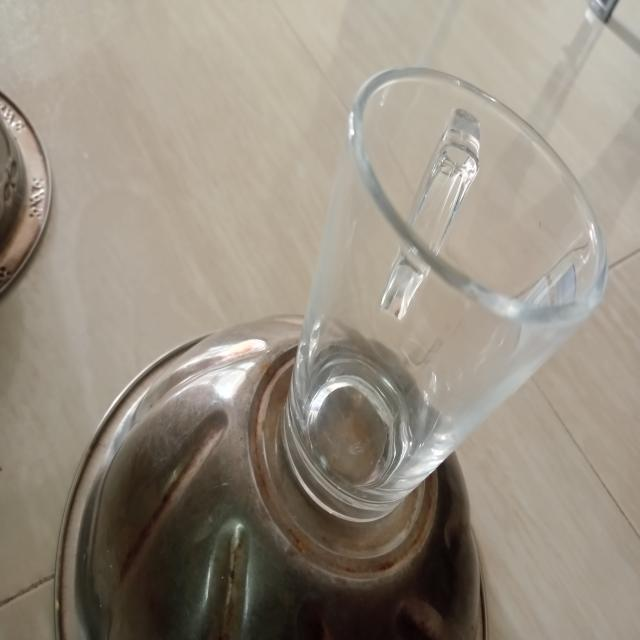glass-VX4N: (279, 59, 607, 528)
